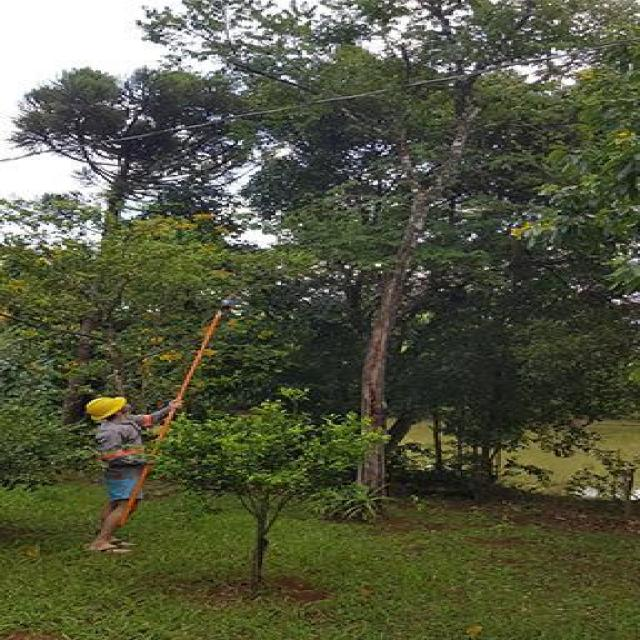helmet: (82, 395, 134, 423)
